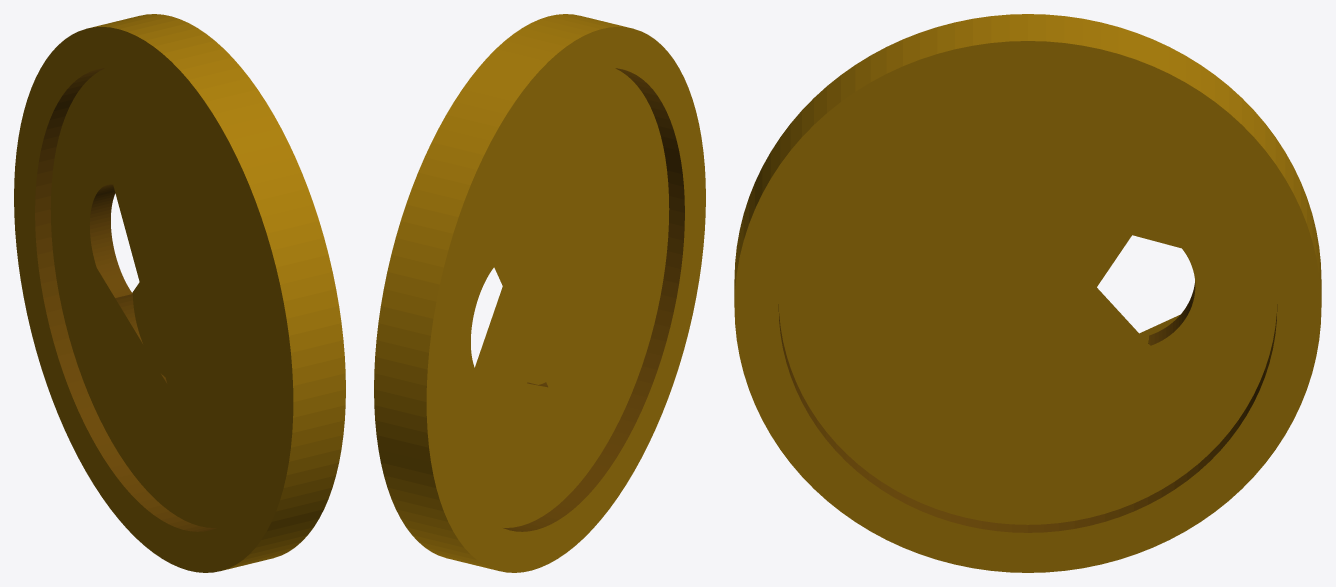
The model's file is moneda.fbx.
3 views of the same model, side by side, from view 1: azimuth 30°, elevation 25°; view 2: azimuth 150°, elevation 25°; view 3: azimuth 270°, elevation 25° (orthographic). The views are drawn at different scales.
Parts seen in each view (by area): view 1: Cylinder; view 2: Cylinder; view 3: Cylinder.
Boxes of the visible parts, box(x1,y1,x2,y2) form: Cylinder: box(14, 14, 345, 572); Cylinder: box(374, 14, 705, 572); Cylinder: box(734, 14, 1321, 572).
Bounding box in the file's own units: 11.72 × 108 × 108.
1 material, 1 textured.
